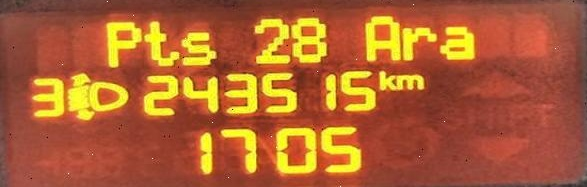0: (272, 124, 314, 175)
1: (192, 124, 217, 181), (323, 71, 339, 114)
2: (251, 14, 292, 63), (143, 73, 177, 117)
3: (26, 70, 64, 116), (220, 69, 257, 116)
4: (181, 72, 218, 113)
5: (319, 123, 366, 174), (258, 70, 298, 111), (339, 69, 374, 114)
7: (218, 123, 263, 174)
8: (290, 15, 330, 62)
X: (362, 14, 402, 61), (102, 18, 141, 66), (142, 20, 177, 65), (400, 25, 437, 61), (179, 30, 216, 65), (441, 24, 475, 61), (394, 72, 425, 92), (376, 69, 395, 93)
